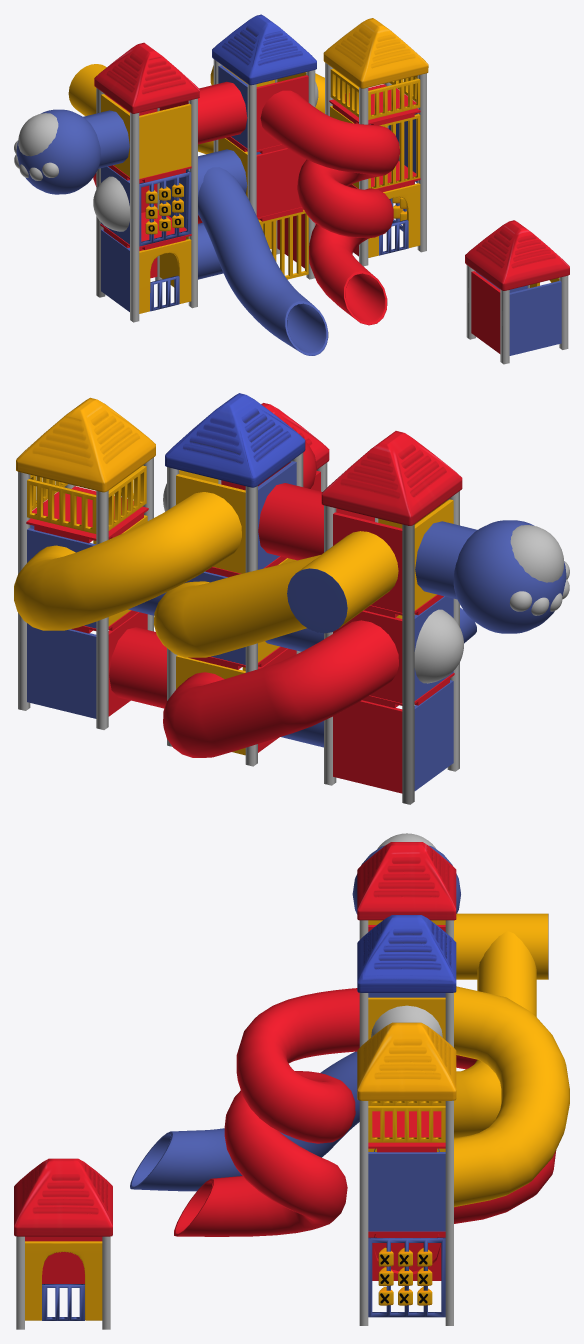
Rendered from 16T3_Playground_vxx.fbx.
3 views of the same model, one above another, from view 1: azimuth 30°, elevation 25°; view 2: azimuth 150°, elevation 25°; view 3: azimuth 270°, elevation 25° (orthographic). The views are drawn at different scales.
Visible parts, largest first — view 1: SpiralPoly, SlidePoly, Roof1, Roof3, Roof2, Roof4, SpacePod, Wall1, Wall32, Wall15, Pipe1, SupportL2 (+35 smaller); view 2: Tube2, Tube3, Tube1, Roof1, Roof2, Roof3, Pipe7, SpacePod, Wall28, Wall9, Pipe1, Pipe5 (+30 smaller); view 3: SpiralPoly, Tube3, Roof3, Roof4, Roof2, Roof1, SlidePoly, Tube1, Wall24, Pipe7, Wall34, SupportM4 (+12 smaller).
Boxes of the visible parts, left/top/right/bottom form: SpiralPoly: left=260, top=90, right=400, bottom=325; SlidePoly: left=198, top=167, right=328, bottom=355; Roof1: left=94, top=42, right=199, bottom=113; Roof3: left=323, top=18, right=428, bottom=88; Roof2: left=212, top=14, right=316, bottom=85; Roof4: left=465, top=220, right=569, bottom=290; SpacePod: left=16, top=109, right=100, bottom=194; Wall1: left=139, top=103, right=191, bottom=178; Wall32: left=509, top=281, right=561, bottom=355; Wall15: left=256, top=148, right=306, bottom=217; Pipe1: left=198, top=81, right=247, bottom=144; SupportL2: left=130, top=112, right=139, bottom=322; Tube2: left=163, top=620, right=398, bottom=757; Tube3: left=14, top=492, right=241, bottom=630; Tube1: left=153, top=555, right=321, bottom=657; Roof1: left=321, top=431, right=462, bottom=525; Roof2: left=165, top=393, right=305, bottom=487; Roof3: left=16, top=397, right=155, bottom=492; Pipe7: left=287, top=531, right=398, bottom=633; SpacePod: left=453, top=520, right=566, bottom=633; Wall28: left=27, top=623, right=96, bottom=718; Wall9: left=333, top=700, right=402, bottom=793; Pipe1: left=258, top=483, right=323, bottom=560; Pipe5: left=109, top=627, right=166, bottom=708; SpiralPoly: left=174, top=988, right=359, bottom=1236; Tube3: left=454, top=986, right=569, bottom=1207; Roof3: left=357, top=1022, right=456, bottom=1100; Roof4: left=14, top=1158, right=112, bottom=1236; Roof2: left=357, top=915, right=456, bottom=992; Roof1: left=357, top=842, right=456, bottom=920; SlidePoly: left=130, top=1051, right=359, bottom=1191; Tube1: left=454, top=931, right=536, bottom=1138; Wall24: left=368, top=1152, right=445, bottom=1231; Pipe7: left=454, top=913, right=548, bottom=979; Wall34: left=25, top=1241, right=102, bottom=1320; SupportM4: left=359, top=1100, right=368, bottom=1325.
Bounding box in the file's own units: 16.82 × 10.3 × 16.19.
10 materials, 4 textured.
